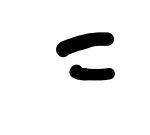eqv: (56, 32, 114, 80)
